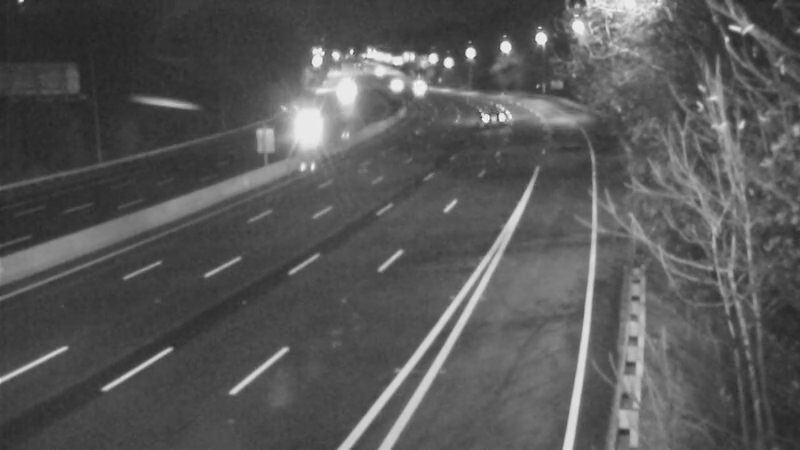vehicle: (389, 59, 439, 109), (367, 59, 417, 109), (469, 86, 519, 136), (278, 101, 328, 151), (318, 64, 368, 114)
